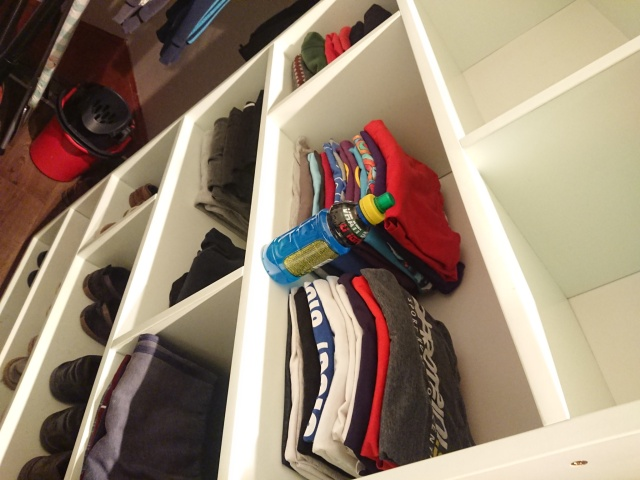Vindi Iso Sport Forest Strawberries 500mL: (259, 189, 396, 285)
